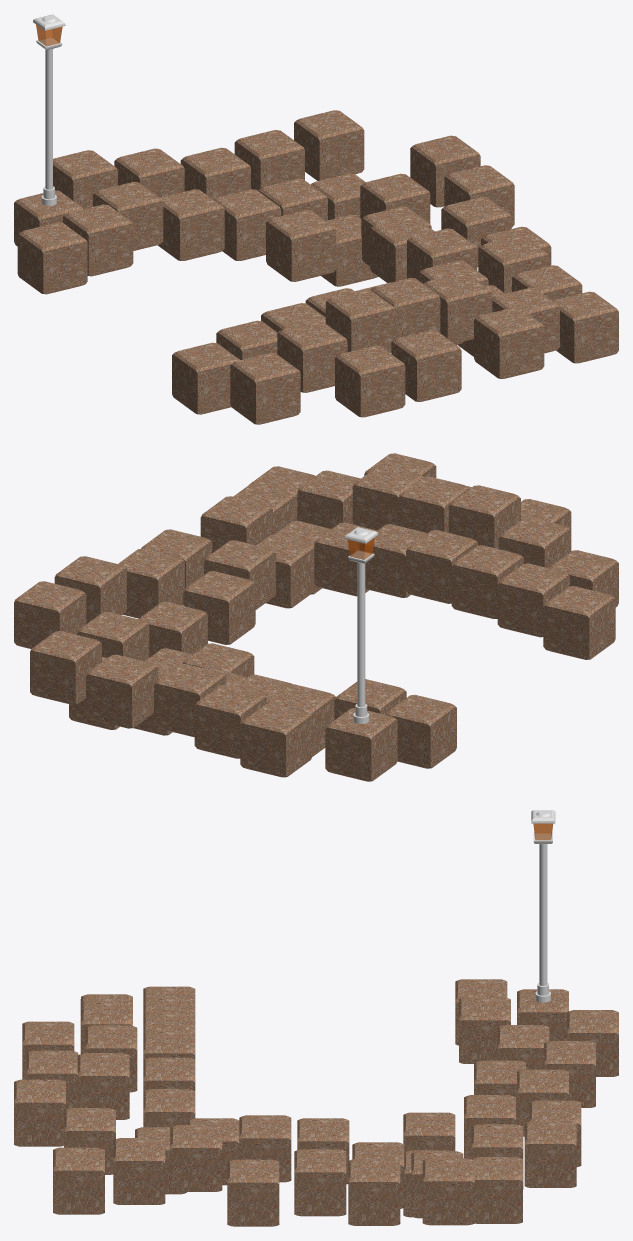
File: Floating.fbx
3 renders of one model, top to bottom at view 1: azimuth 30°, elevation 25°; view 2: azimuth 150°, elevation 25°; view 3: azimuth 270°, elevation 25°, orthographic. The views are drawn at different scales.
Visible parts, largest first — view 1: Ground 2.037, Ground 2.031, Ground 2.035, Ground 2.006, Ground 2.007, Ground 2.020, Ground 2.010, Ground 2.033, Ground 3.013, Ground 2.028, Ground 2.008, Ground 2.036 (+28 smaller); view 2: Ground 3.013, Ground 2.016, Ground 2.019, Ground 2.015, Ground 2.020, Ground 2.007, Ground.007, Ground 2.022, Ground 3.014, Ground 2.017, Ground 3.015, Ground 3.016 (+30 smaller); view 3: Ground 2.025, Ground 2.022, Ground 2.024, Ground 2.023, Ground 2.020, Ground 2.026, Ground 2.027, Ground 2.028, Ground 2.031, Ground 2.014, Ground 2.030, Ground 2.008 (+30 smaller).
Part boxes in pixels (left/top/right/bottom): Ground 2.037: left=230, top=353, right=300, bottom=424; Ground 2.031: left=474, top=307, right=544, bottom=378; Ground 2.035: left=335, top=345, right=405, bottom=417; Ground 2.006: left=266, top=210, right=336, bottom=281; Ground 2.007: left=17, top=222, right=87, bottom=294; Ground 2.020: left=294, top=110, right=364, bottom=180; Ground 2.010: left=157, top=189, right=224, bottom=260; Ground 2.033: left=391, top=330, right=461, bottom=401; Ground 3.013: left=172, top=342, right=240, bottom=414; Ground 2.028: left=553, top=291, right=618, bottom=363; Ground 2.008: left=63, top=204, right=133, bottom=276; Ground 2.036: left=277, top=321, right=347, bottom=392; Ground 3.013: left=543, top=586, right=615, bottom=659; Ground 2.016: left=240, top=703, right=312, bottom=777; Ground 2.019: left=86, top=654, right=158, bottom=728; Ground 2.015: left=325, top=708, right=397, bottom=781; Ground 2.020: left=30, top=631, right=101, bottom=704; Ground 2.007: left=385, top=694, right=456, bottom=768; Ground.007: left=183, top=571, right=255, bottom=644; Ground 2.022: left=14, top=581, right=86, bottom=648; Ground 3.014: left=497, top=563, right=569, bottom=637; Ground 2.017: left=194, top=685, right=266, bottom=758; Ground 3.015: left=451, top=545, right=523, bottom=618; Ground 3.016: left=406, top=530, right=478, bottom=603; Ground 2.025: left=227, top=1159, right=279, bottom=1226; Ground 2.022: left=422, top=1158, right=474, bottom=1225; Ground 2.024: left=294, top=1149, right=346, bottom=1216; Ground 2.023: left=348, top=1159, right=400, bottom=1225; Ground 2.020: left=524, top=1121, right=576, bottom=1187; Ground 2.026: left=170, top=1125, right=222, bottom=1191; Ground 2.027: left=113, top=1138, right=165, bottom=1204; Ground 2.028: left=53, top=1147, right=104, bottom=1214; Ground 2.031: left=14, top=1079, right=65, bottom=1146; Ground 2.014: left=472, top=1157, right=522, bottom=1223; Ground 2.030: left=77, top=1053, right=129, bottom=1119; Ground 2.008: left=459, top=997, right=510, bottom=1063.
Size of the model in its own units: 9.45 by 5.86 by 11.63.
Materials: 3 (1 with a texture image).
